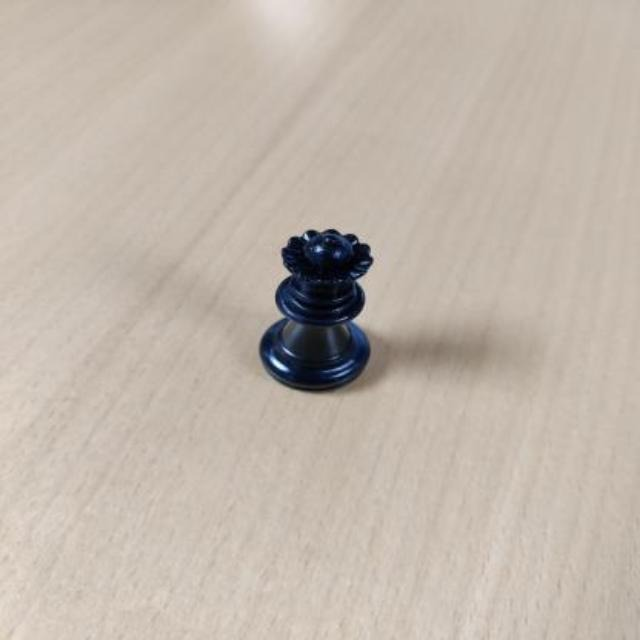black-queen: (258, 229, 373, 392)
